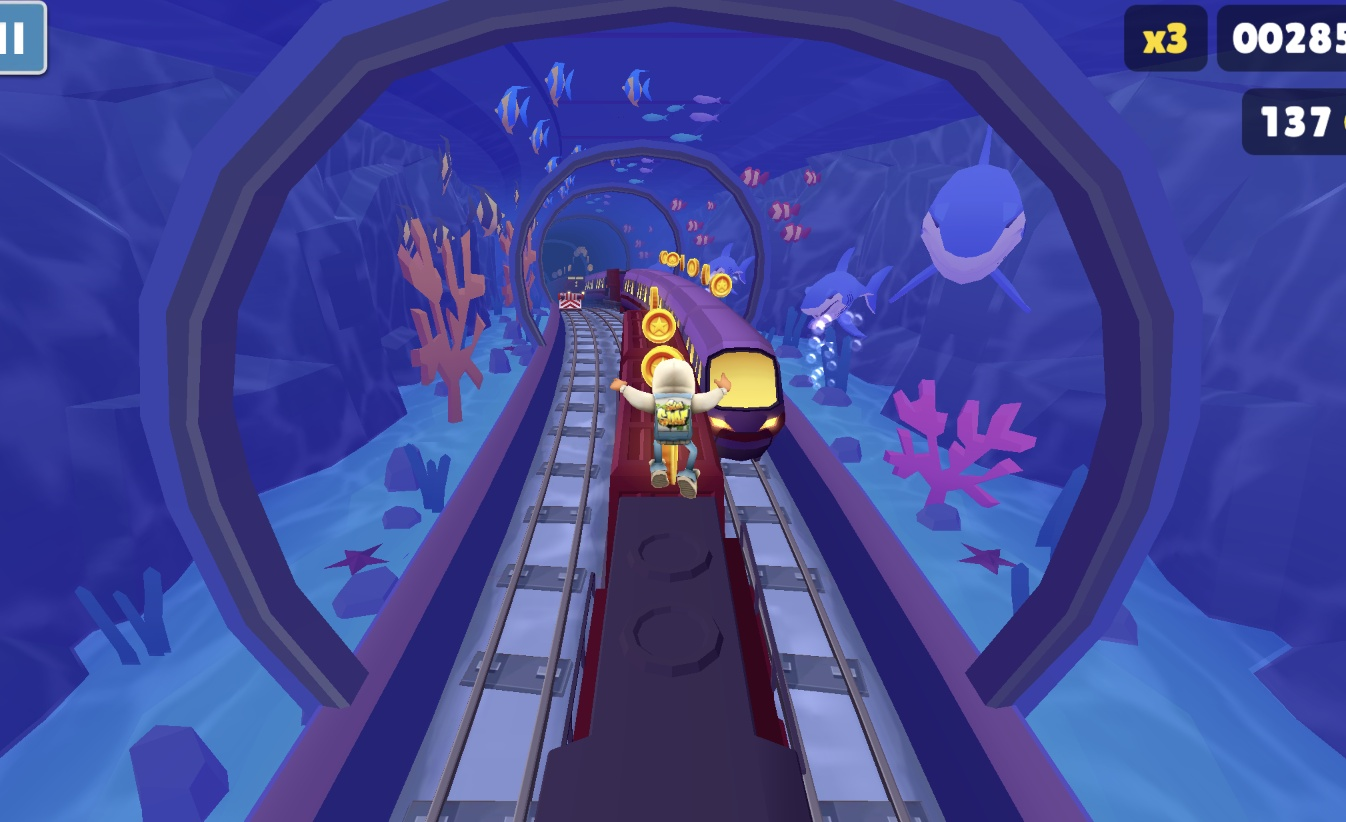ground_barrier: (557, 290, 584, 311)
train: (537, 490, 815, 822), (589, 306, 790, 750), (619, 267, 786, 462), (606, 269, 621, 296)
